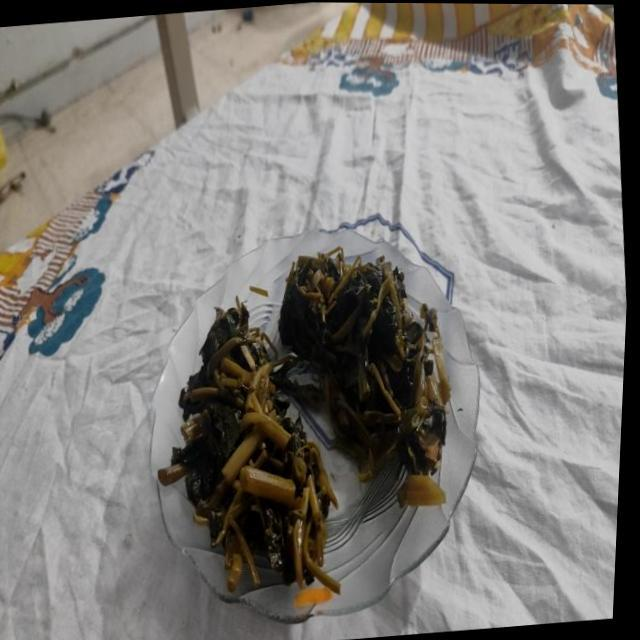tumis_kangkung: (171, 296, 340, 594), (278, 246, 450, 481)
